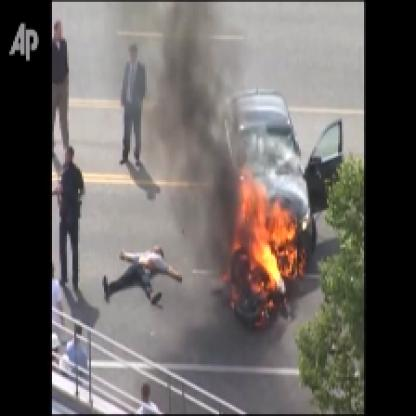Fire: (219, 160, 301, 323)
Smoke: (143, 2, 241, 275)
